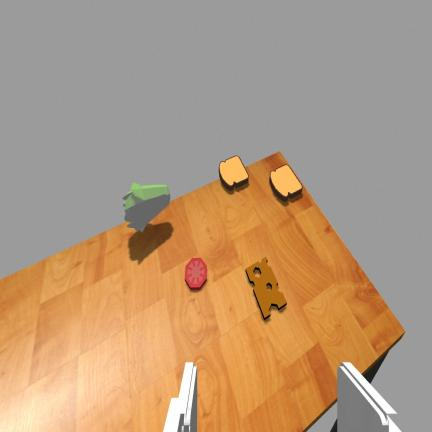cheese: (246, 257, 286, 319)
lettuce: (123, 182, 170, 232)
sliced_bread: (270, 164, 302, 201), (219, 156, 248, 190)
sliced_tomato: (185, 258, 207, 289)
